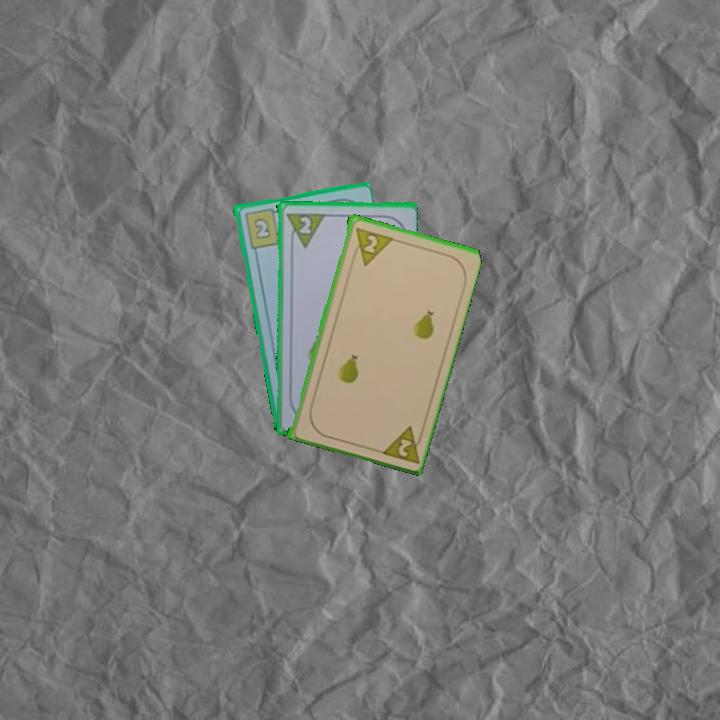2b: (241, 204, 283, 251)
2p: (376, 422, 426, 466), (349, 223, 394, 268), (296, 213, 313, 236)
